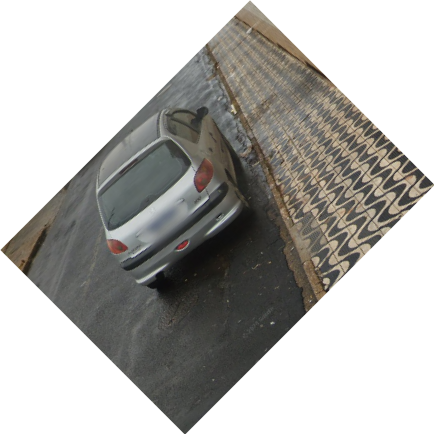car: (89, 104, 257, 295)
